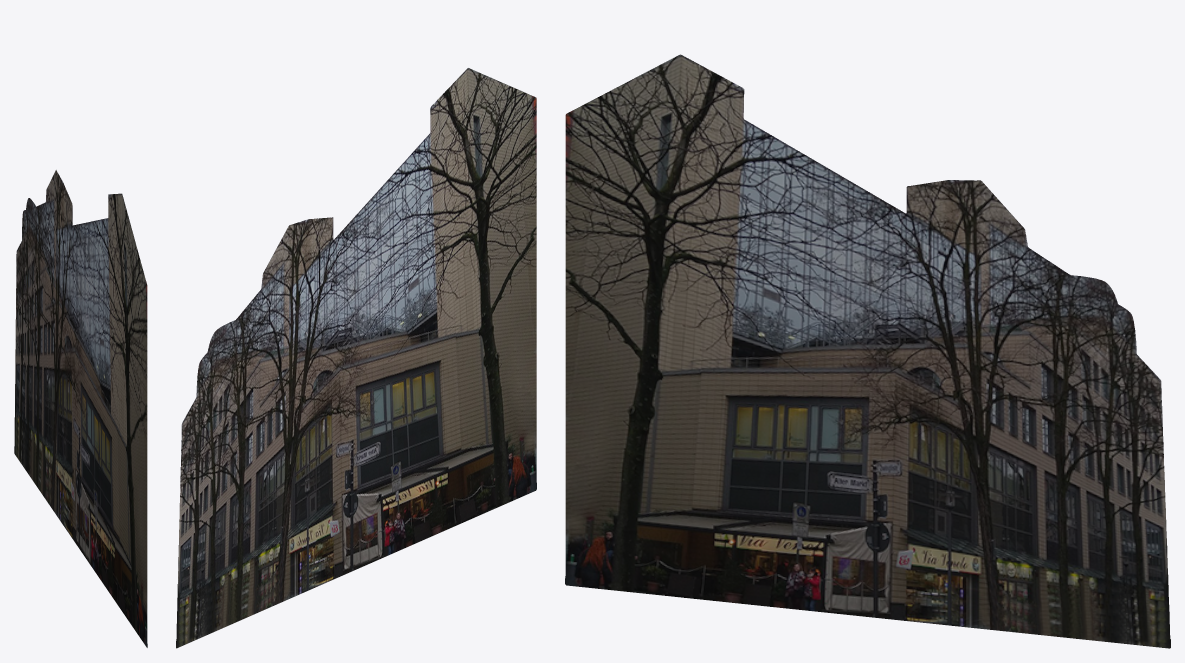
Rendered from Alter_Markt_11_9.FBX.
3 views of the same model, side by side, from view 1: azimuth 30°, elevation 25°; view 2: azimuth 150°, elevation 25°; view 3: azimuth 270°, elevation 25° (orthographic). The views are drawn at different scales.
Visible parts, largest first — view 1: Alter_Markt_11_9; view 2: Alter_Markt_11_9; view 3: Alter_Markt_11_9.
Boxes of the visible parts, box(x1,y1,x2,y2) form: Alter_Markt_11_9: box(14, 170, 147, 647); Alter_Markt_11_9: box(176, 68, 536, 648); Alter_Markt_11_9: box(565, 54, 1170, 648).
Size of the model in its own units: 526 by 2213 by 2126.
1 material, 1 textured.
